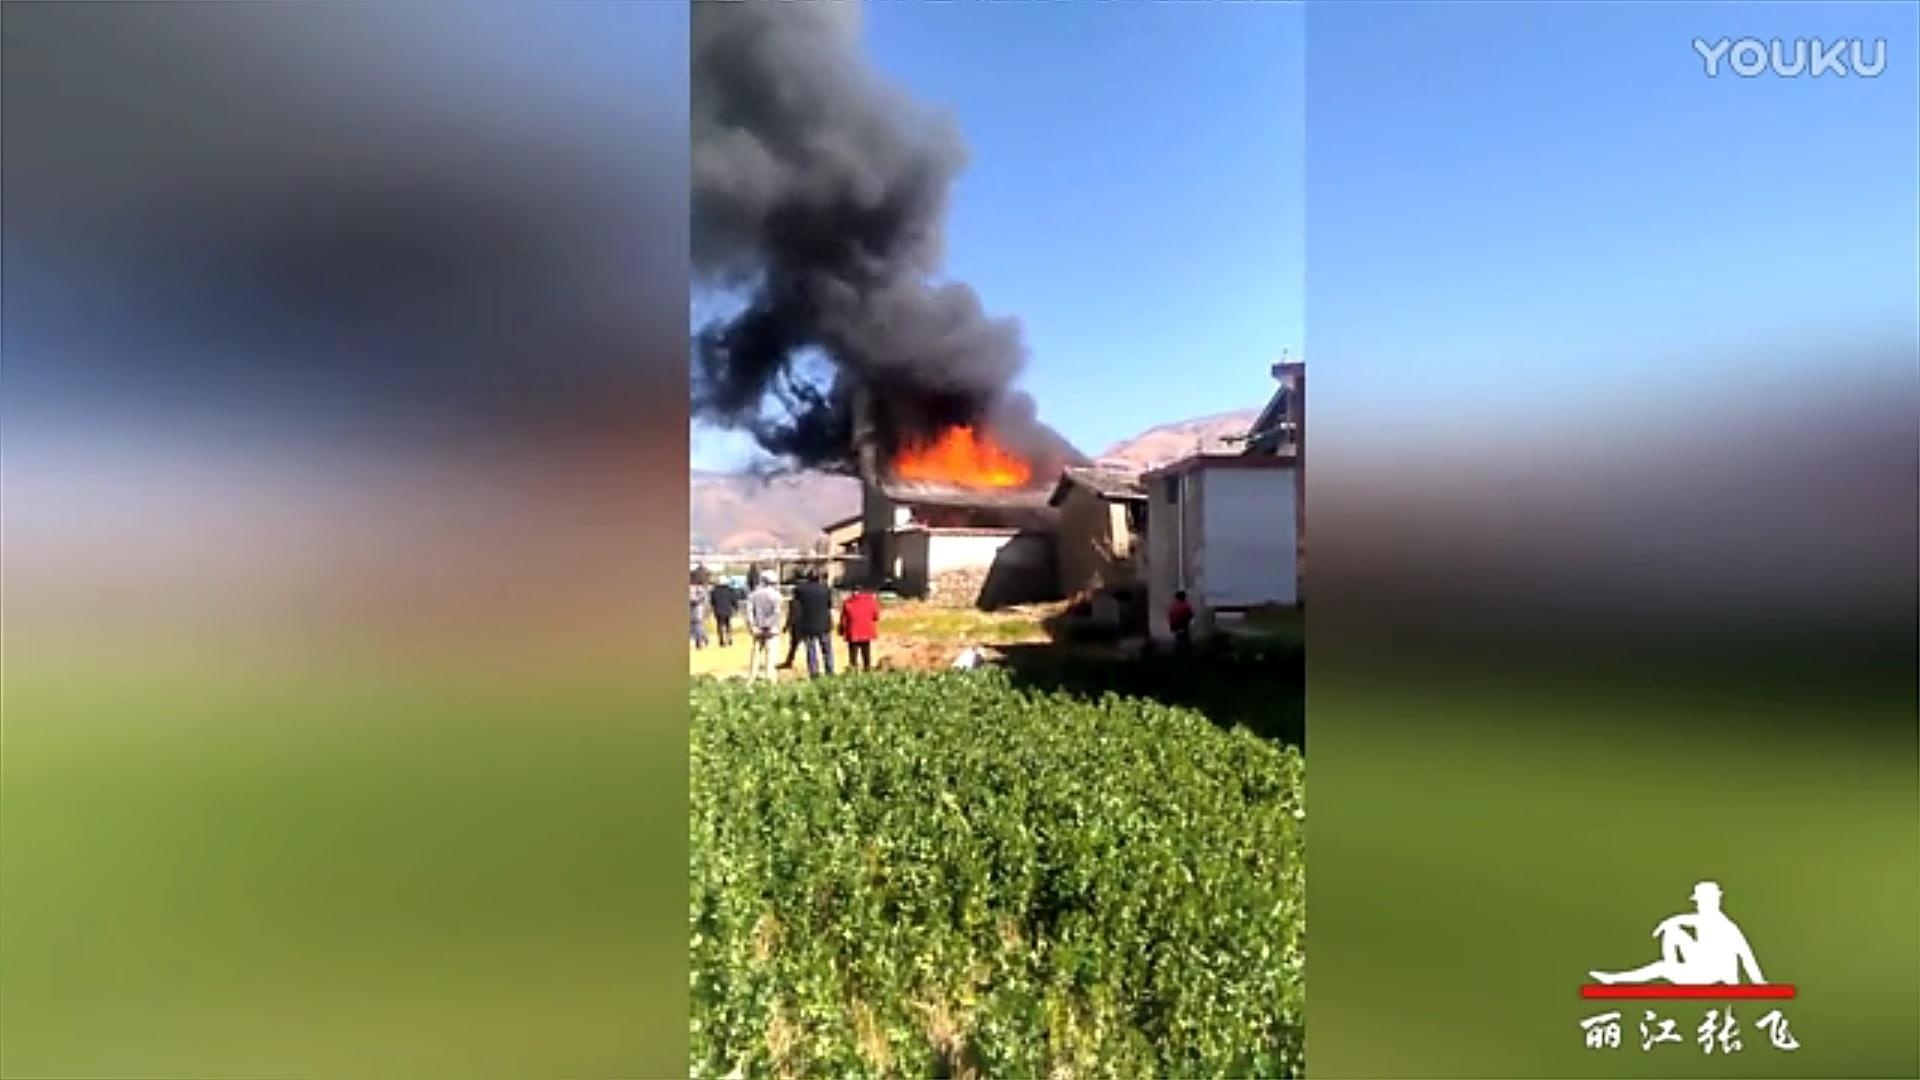fire: (895, 427, 1033, 495)
